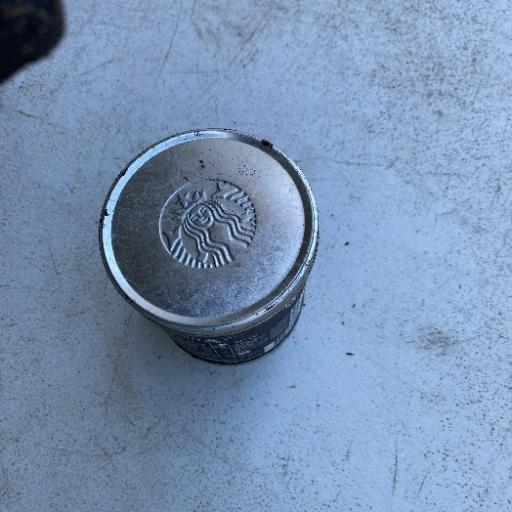Metal: (96, 125, 321, 366)
